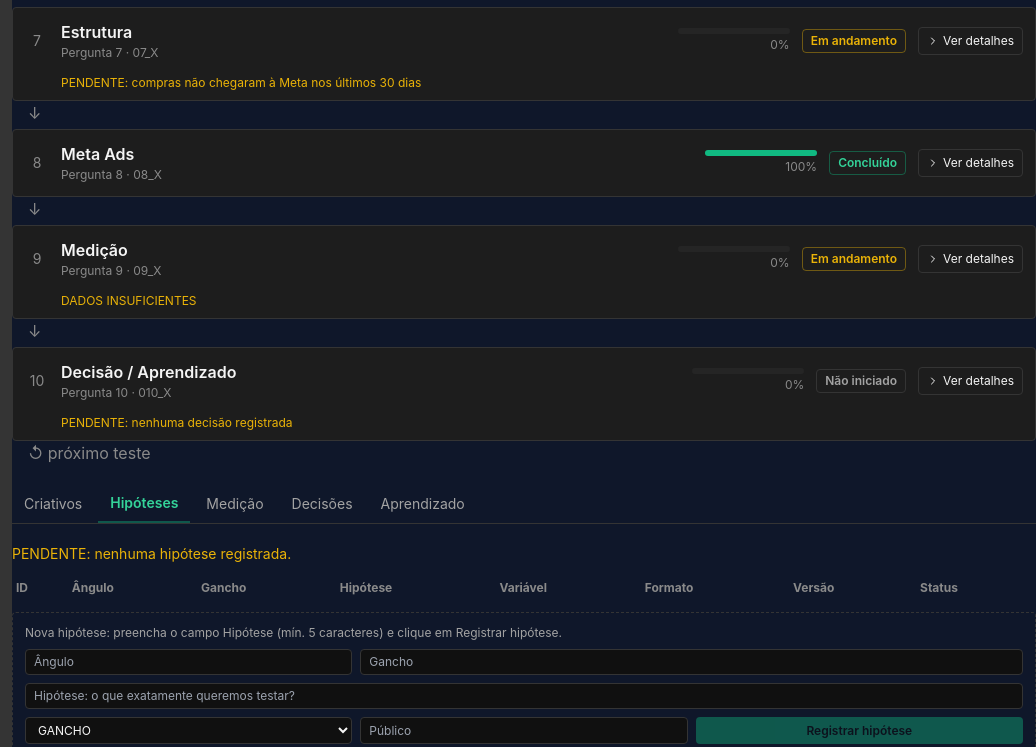
Test case: Método NORQVA — tela › creative without hypothesis shows NÃO PRONTO and its pipeline stage
(page scrolled)
Click the tab "Criativos" at [53, 504], box [12,485,94,523]
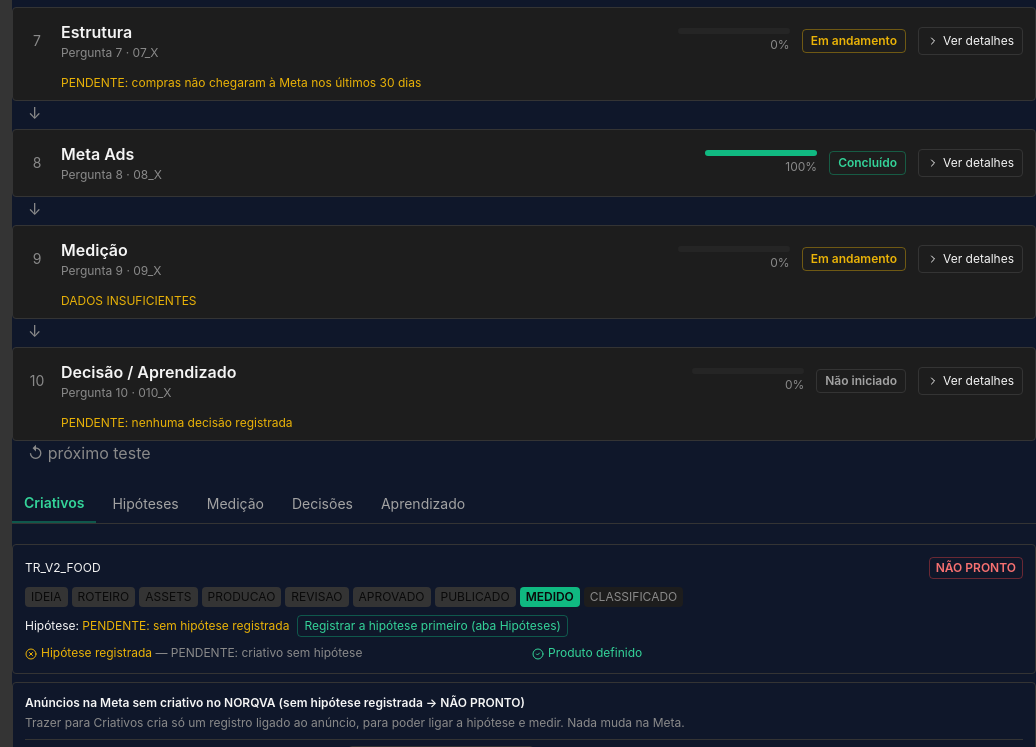
Expected: the element with test id "method-creative" is shown, [12,544,1035,674]
Expected: the button with test id "creative-go-hypotheses" is shown, [297,615,568,637]
Expected: the text with test id "creative-readiness" reads "NÃO PRONTO", [936,560,1016,575]
